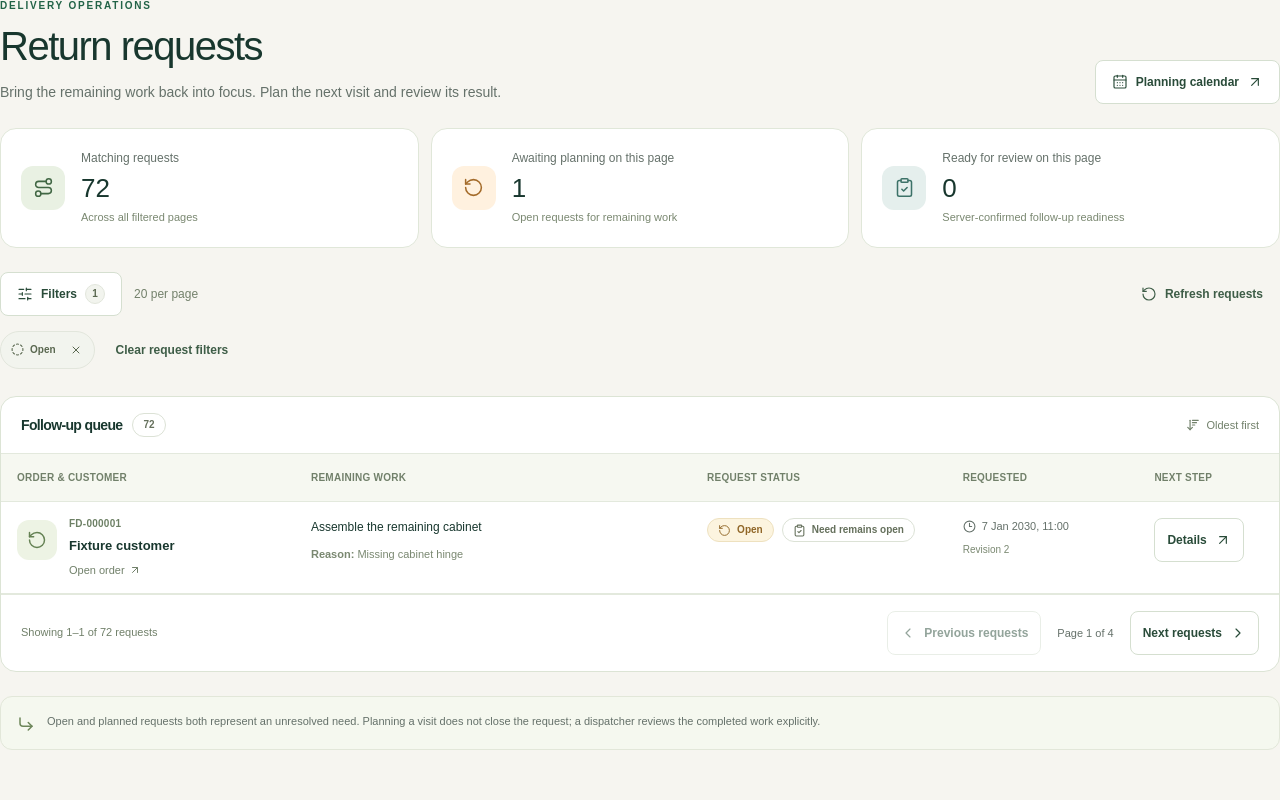
Test: Return request directory › keeps saved records on a transient failure and clears them after access loss
Expected: the link with aria-label "FD-000001 · Fixture customer" is shown, [69,518,174,556]
What coordinates should you click on to do the following:
click the button "Refresh requests"
I would click on:
 (1202, 294)
Its box is [1124,272,1279,316].
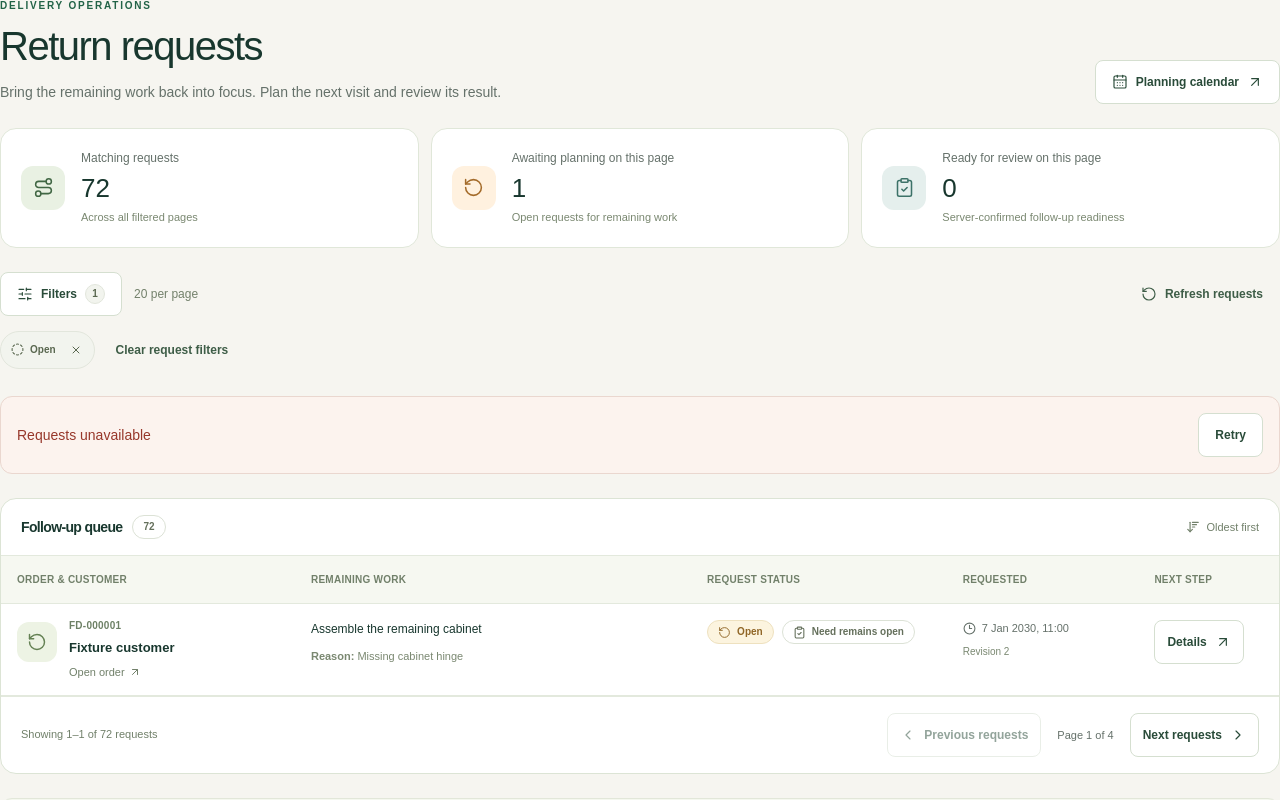
Expected: the link with aria-label "FD-000001 · Fixture customer" is shown, [69,620,174,658]
Now the message "Requests unavailable" is shown, box [17,425,151,445]
What coordinates should you click on to do the following:
click the button "Retry"
I would click on:
 (1231, 435)
Its box is [1198,413,1263,457].
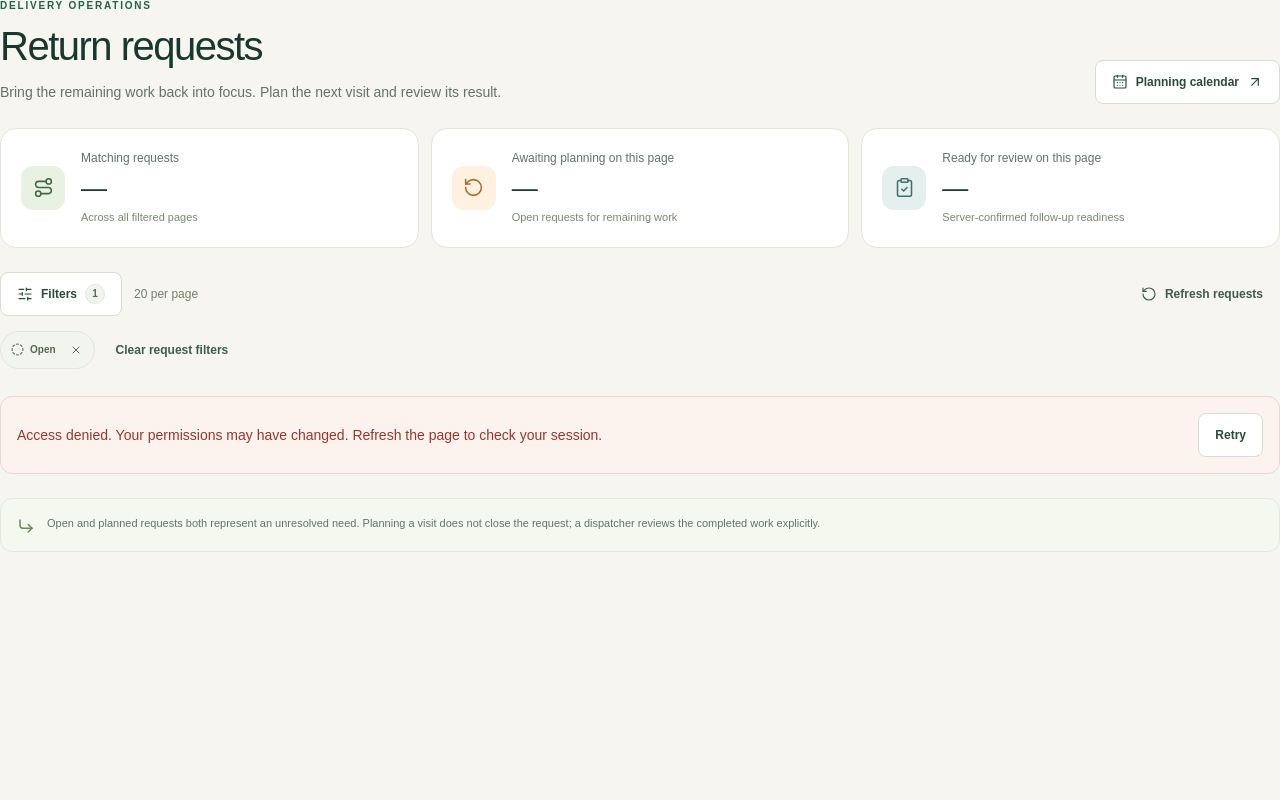
Now the message shows "Access denied", box [17,427,602,443]
Now the text "Missing cabinet hinge" is gone
